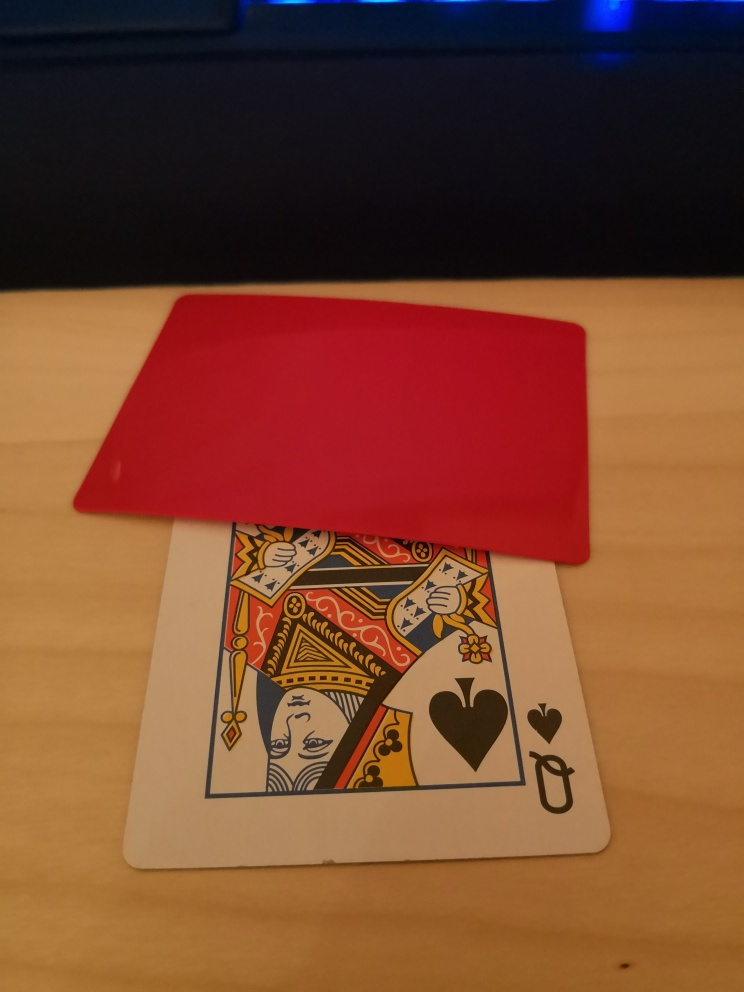queen: (121, 520, 610, 871)
